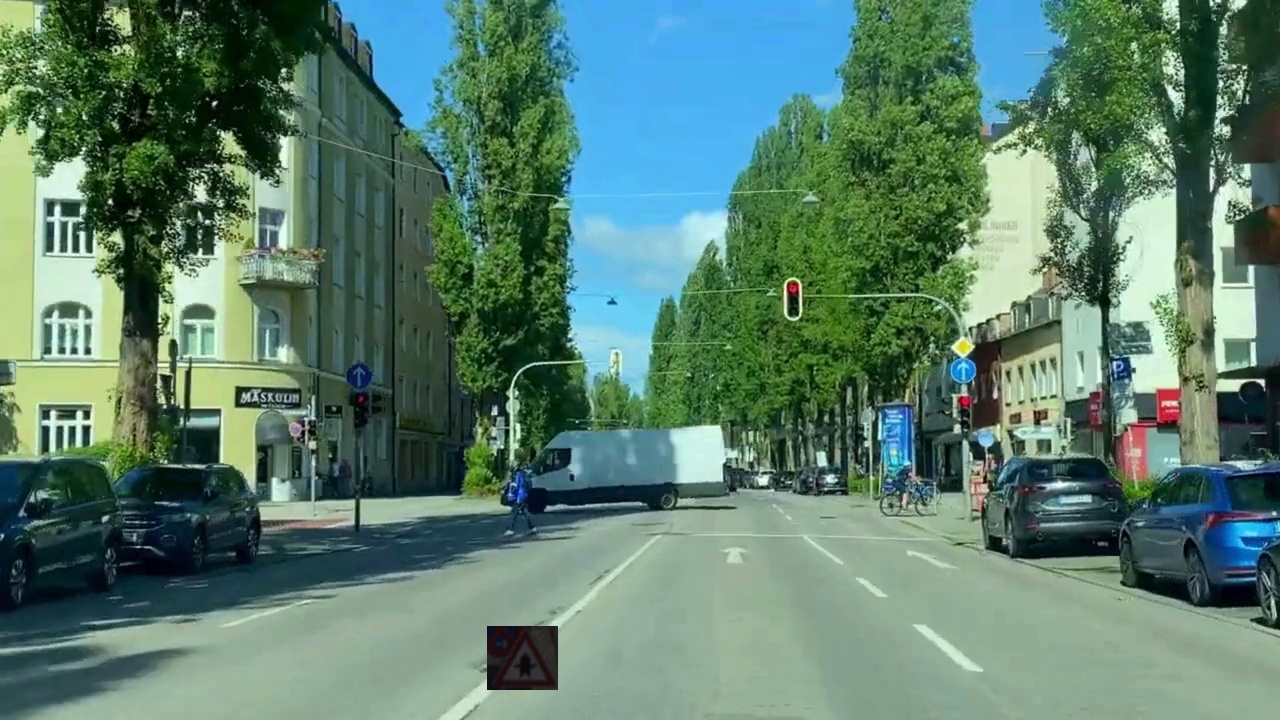Right-of-way: (487, 626, 558, 690)
